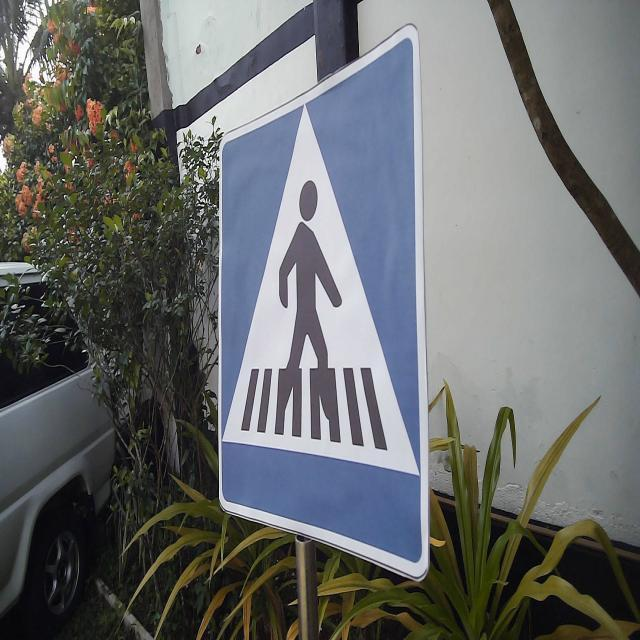crosswalk_sign: (216, 21, 433, 586)
